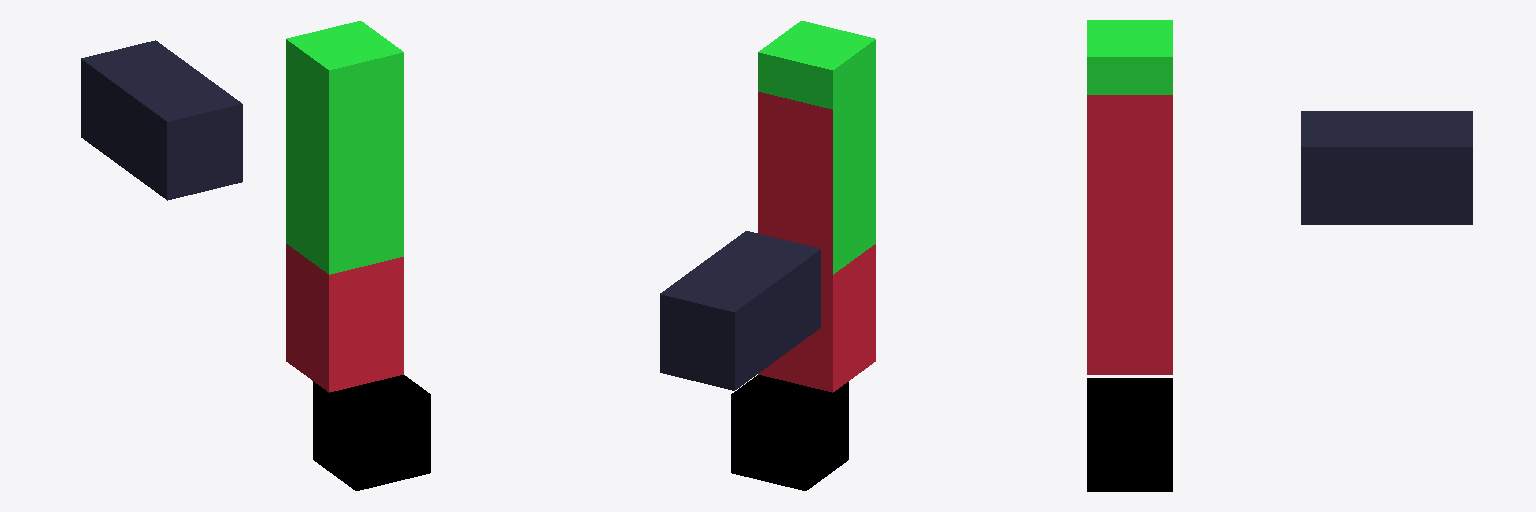
URDF robot description (el_mini):
<?xml version="1.0" encoding="utf-8"?>
<!-- =================================================================================== -->
<!-- ============ This URDF was created by HIT RCAMC k206 ZZLin 2023.11.07 ============= -->
<!-- =================================================================================== -->
<robot
  name="el_mini">
  <material name="black">
    <color rgba="0.0 0.0 0.0 1.0"/>
  </material>
  <material name="blue">
    <color rgba="0.0 0.0 0.8 1.0"/>
  </material>
  <material name="green">
    <color rgba="0.0 0.8 0.0 1.0"/>
  </material>
  <material name="grey">
    <color rgba="0.2 0.2 0.2 1.0"/>
  </material>
  <material name="red">
    <color rgba="0.8 0.0 0.0 1.0"/>
  </material>
  <material name="white">
    <color rgba="1.0 1.0 1.0 1.0"/>
  </material>
  <link
    name="BASE">
    <inertial>
      <origin
        xyz="0.00000732 0.00000000 0.02428745"
        rpy="0 0 0" />
      <mass
        value="15.89907465" />
      <!-- <mass -->
        <!-- value="8.89907465" /> -->
      <inertia
        ixx="0.09260861"
        ixy="-0.00001892"
        ixz="0.00000158"
        iyy="0.47054913"
        iyz="0.00000000"
        izz="0.53896766" />
    </inertial>
    <visual>
      <origin
        xyz="0 0 0"
        rpy="0 0 0" />
                <!-- <geometry>
                <box size="0.18 0.05 0.05"/>
                </geometry> -->
            <geometry>
                <mesh filename="package://el_mini/meshes/BASE.STL" />
            </geometry>
      <material
        name="grey">
        <color
          rgba="0.2 0.2 0.3 1" />
      </material>
    </visual>
    <collision>
      <origin
        xyz="0 0 0"
        rpy="0 0 0" />
                <geometry>
                <box size="0.18 0.05 0.05"/>
                </geometry>
    </collision>
  </link>
  <link
    name="RF_HIP">
    <inertial>
      <origin
        xyz=" -0.01146909 -0.12306389 -0.03643601"
        rpy="0 0 0" />
      <mass
        value="1.20924153" />
      <inertia
        ixx="0.00506259"
        ixy="-0.00037922"
        ixz="-0.00012353"
        iyy="0.00134204"
        iyz="-0.00101741"
        izz="0.00448477" />
    </inertial>
    <visual>
      <origin
        xyz="0 0 0"
        rpy="0 0 0" />
                <geometry>
                <box size="0.05 0.1 0.05"/>
                </geometry>
      <material
        name="blue">
        <color
          rgba="0.2 0.2 0.3 1" />
      </material>
    </visual>
    <collision>
      <origin
        xyz="0 0 0"
        rpy="0 0 0" />
                <geometry>
                <box size="0.18 0.05 0.05"/>
                </geometry>
    </collision>
  </link>
  <joint
    name="RF_HAA"
    type="revolute">
    <origin
      xyz="0.3 -0.08 0.011"
      rpy="0 0 0" />
    <parent
      link="BASE" />
    <child
      link="RF_HIP" />
    <axis
      xyz="0 0 1" />
    <limit
      lower="-0.785"
      upper="0.785"
      effort="33.5"
      velocity="21" />
  </joint>
  <link
    name="RF_THIGH">
    <inertial>
      <origin
        xyz="0.11424797 -0.00005753 -0.01976803"
        rpy="0 0 0" />
      <mass
        value="0.92523512" />
      <inertia
        ixx="0.00065690"
        ixy="0.00000148"
        ixz="0.00012260"
        iyy="0.00209449"
        iyz="0.00000158"
        izz="0.00237655" />
    </inertial>
    <visual>
      <origin
        xyz="0.08 0 0"
        rpy="0 0 0" />
                <geometry>
                <box size="0.13 0.05 0.05"/>
                </geometry>
      <material
        name="red">
        <color
          rgba="0.2 0.99 0.3 1" />
      </material>
    </visual>
    <collision>
      <origin
        xyz="0 0 0"
        rpy="0 0 0" />
                <geometry>
                <box size="0.18 0.05 0.05"/>
                </geometry>
    </collision>
  </link>
  <joint
    name="RF_HFE"
    type="revolute">
    <origin
      xyz="0.0355 -0.14999 -0.045056"
      rpy="3.1416 -1.5708 0" />
    <parent
      link="RF_HIP" />
    <child
      link="RF_THIGH" />
    <axis
      xyz="0 0 1" />
    <limit
      lower="-0.5233"
      upper="3.14"
      effort="33.5"
      velocity="21" />
  </joint>
  <link
    name="RF_SHANK">
    <inertial>
      <origin
        xyz="0.00000000 -0.07024046 -0.00923673"
        rpy="0 0 0" />
      <mass
        value="0.28148664" />
      <inertia
        ixx="0.00256638"
        ixy="0.00000000"
        ixz="0.00000000"
        iyy="0.00009216"
        iyz="-0.00017328"
        izz="0.00258818" />
    </inertial>
    <visual>
      <origin
        xyz="0 -0.1 0"
        rpy="0 0 0" />
                <geometry>
                <box size="0.05 0.18 0.05"/>
                </geometry>
      <material
        name="grey">
        <color
          rgba="0.9 0.2 0.3 1" />
      </material>
    </visual>
    <collision>
      <origin
        xyz="0 0 0"
        rpy="0 0 0" />
                <geometry>
                <box size="0.05 0.18 0.05"/>
                </geometry>
    </collision>
  </link>
  <joint
    name="RF_KFE"
    type="revolute">
    <origin
      xyz="0.13 0 0"
      rpy="3.1416 0 1.5708" />
    <parent
      link="RF_THIGH" />
    <child
      link="RF_SHANK" />
    <axis
      xyz="0 0 1" />
    <limit
      lower="-0.6978"
      upper="3.925"
      effort="33.5"
      velocity="21" />
  </joint>
  <link
    name="RF_FOOT">
    <inertial>
      <origin
        xyz="0.00000000 -0.0070918 0.00000000"
        rpy="0 0 0" />
      <mass
        value="0.01901289" />
      <inertia
        ixx="0.00000396"
        ixy="0.00000000"
        ixz="0.00000000"
        iyy="0.00000573"
        iyz="0.00000000"
        izz="0.00000396" />
    </inertial>
    <visual>
      <origin
        xyz="0 0 0"
        rpy="0 0 0" />
                <geometry>
                <box size="0.05 0.05 0.05"/>
                </geometry>
      <material
        name="black">
        <color
          rgba="0 0 0 1" />
      </material>
    </visual>
    <collision>
      <origin
        xyz="0 0 0"
        rpy="0 0 0" />
                <geometry>
                <box size="0.05 0.05 0.05"/>
                </geometry>
    </collision>
  </link>
  <joint
    name="RF_FIX"
    type="fixed" dont_collapse="true">
    <origin
      xyz="0 -0.232000000000001 -0.0179999999999972"
      rpy="0 0 0" />
    <parent
      link="RF_SHANK" />
    <child
      link="RF_FOOT" />
    <axis
      xyz="0 0 0" />
  </joint>

  
</robot>

--- Facts derived from the render (not from the file) ---
Views: 3 orthographic renders of the robot side by side, from view 1: azimuth 30°, elevation 25°; view 2: azimuth 150°, elevation 25°; view 3: azimuth 270°, elevation 25°.
Robot: el_mini — 5 links, 4 joints (3 revolute, 1 fixed); root link BASE; default pose: all joints at 0.
Visible links, largest first — view 1: RF_THIGH, RF_HIP, RF_SHANK, RF_FOOT; view 2: RF_SHANK, RF_HIP, RF_THIGH, RF_FOOT; view 3: RF_SHANK, RF_HIP, RF_FOOT, RF_THIGH.
Boxes of the visible links, bbox=[...] form: RF_THIGH: bbox=[286, 21, 403, 274]; RF_HIP: bbox=[81, 40, 242, 200]; RF_SHANK: bbox=[286, 244, 403, 392]; RF_FOOT: bbox=[313, 375, 430, 490]; RF_SHANK: bbox=[758, 92, 875, 392]; RF_HIP: bbox=[660, 231, 820, 390]; RF_THIGH: bbox=[758, 21, 875, 274]; RF_FOOT: bbox=[731, 375, 848, 490]; RF_SHANK: bbox=[1087, 95, 1172, 374]; RF_HIP: bbox=[1301, 111, 1472, 224]; RF_FOOT: bbox=[1087, 378, 1172, 491]; RF_THIGH: bbox=[1087, 20, 1172, 94].
Bounding box of the posed robot: 0.1035 × 0.225 × 0.272 m (x, y, z).
Meshes: 1 distinct files referenced, 0 mesh visuals loaded (none loaded); not drawn: 1 (reference not matched to a file when rendering).
